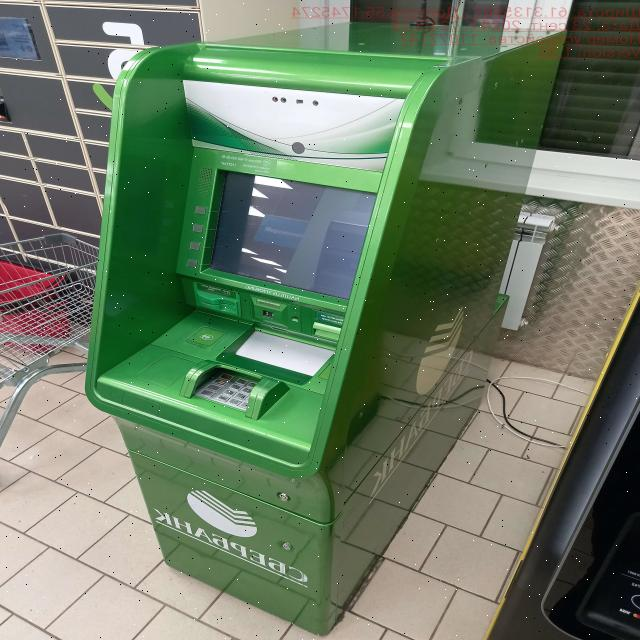bank: (81, 21, 564, 634)
